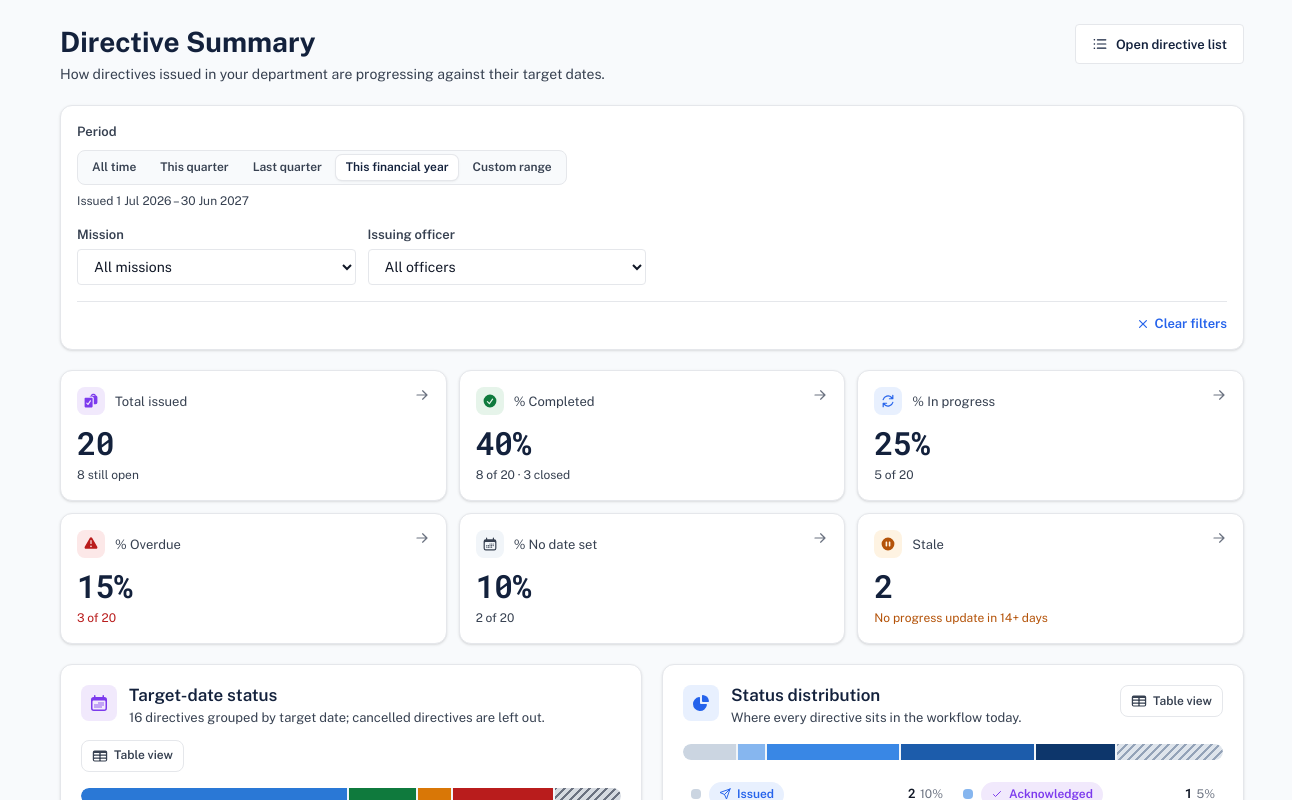
Test: DirectiveSummaryPage › TC-FR-DIR-012-C: period presets resolve to fiscal-calendar issue dates
The image size is (1292, 800).
expect the link "Total issued 20 8 still open" is shown: met, box [60,370,447,501]
Click the radio button labelled "Last quarter": click(287, 167) [243,155,332,180]
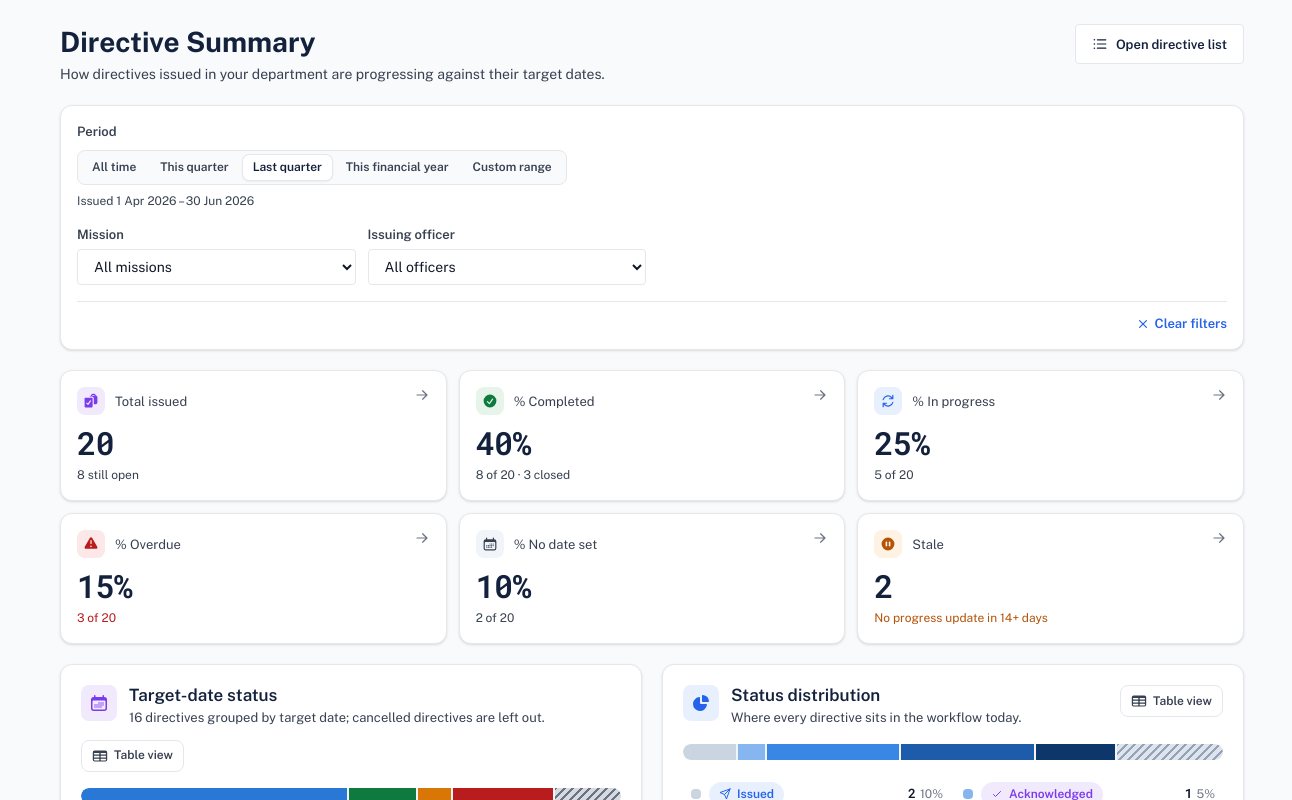
Click the radio button labelled "This quarter": click(194, 167) [150,155,239,180]
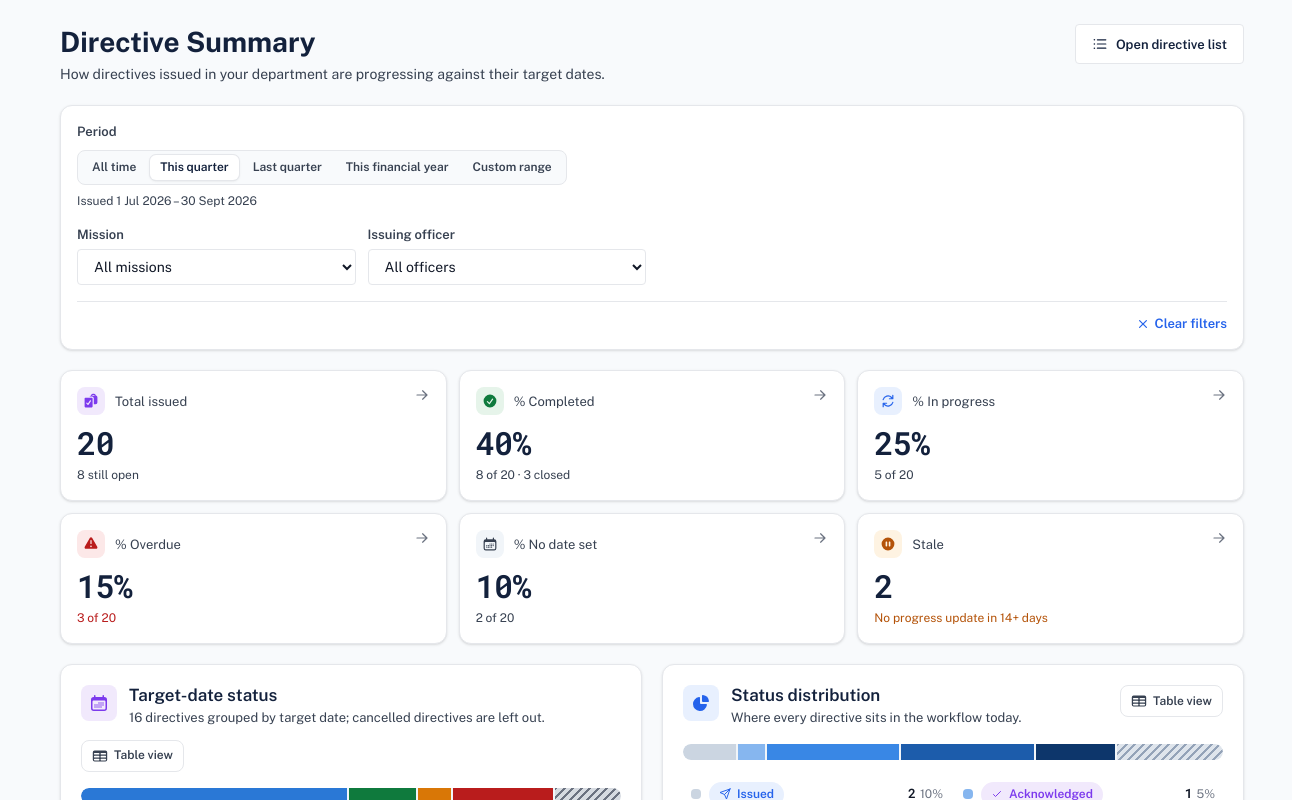
Click the radio button labelled "All time": click(114, 167) [82,155,146,180]
(page scrolled)
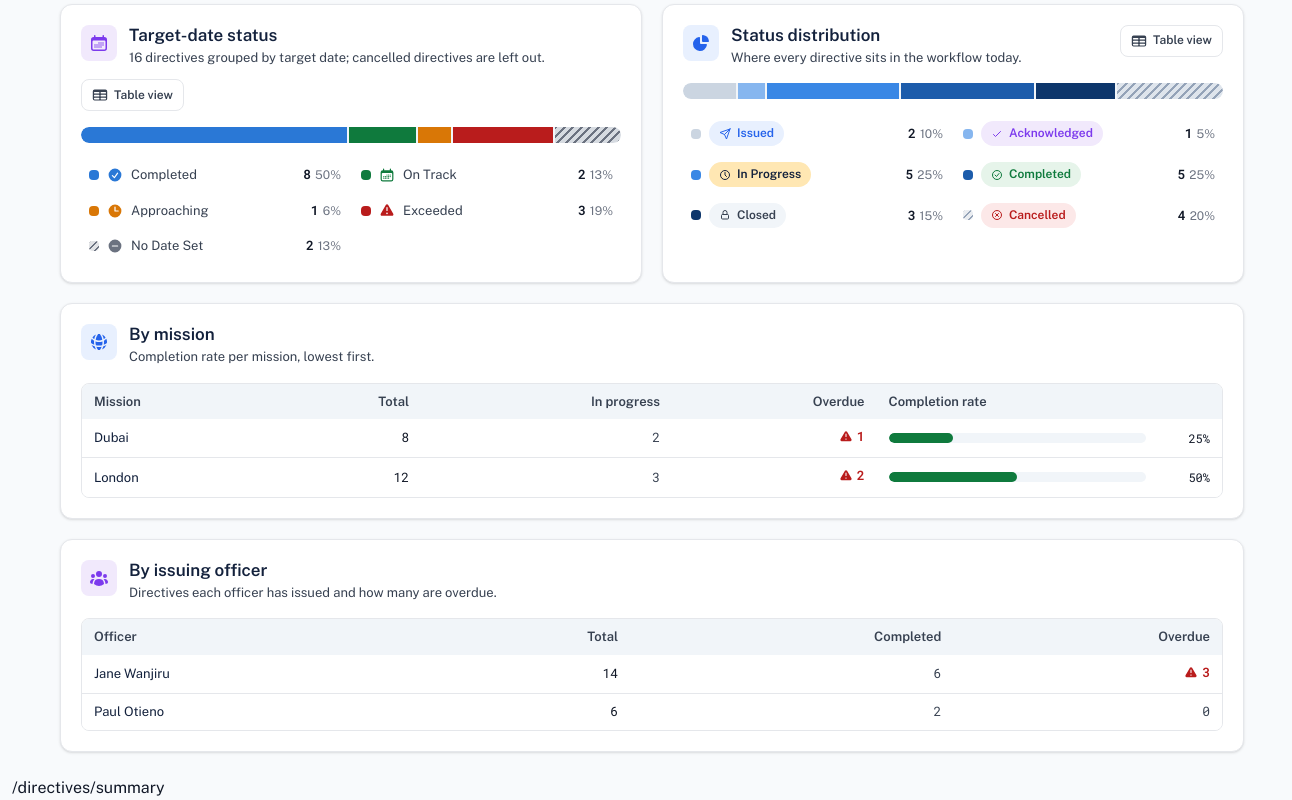
expect the text with test id "location" reads "/directives/summary": met, box [12,778,165,797]
